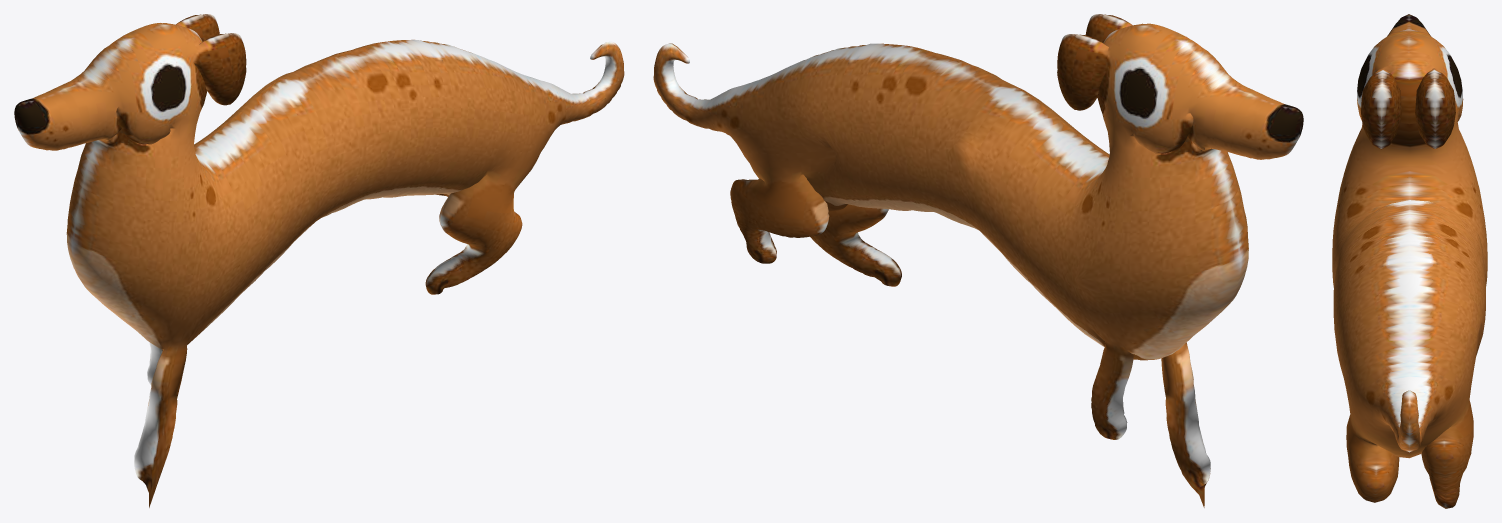
The model's file is salsicha.glb.
The picture shows the model from 3 angles, left to right: view 1: azimuth 30°, elevation 25°; view 2: azimuth 150°, elevation 25°; view 3: azimuth 270°, elevation 25°; orthographic projection. The views are drawn at different scales.
Size of the model in its own units: 6.08 by 4.4 by 1.32.
Materials: 1 (1 with a texture image).
